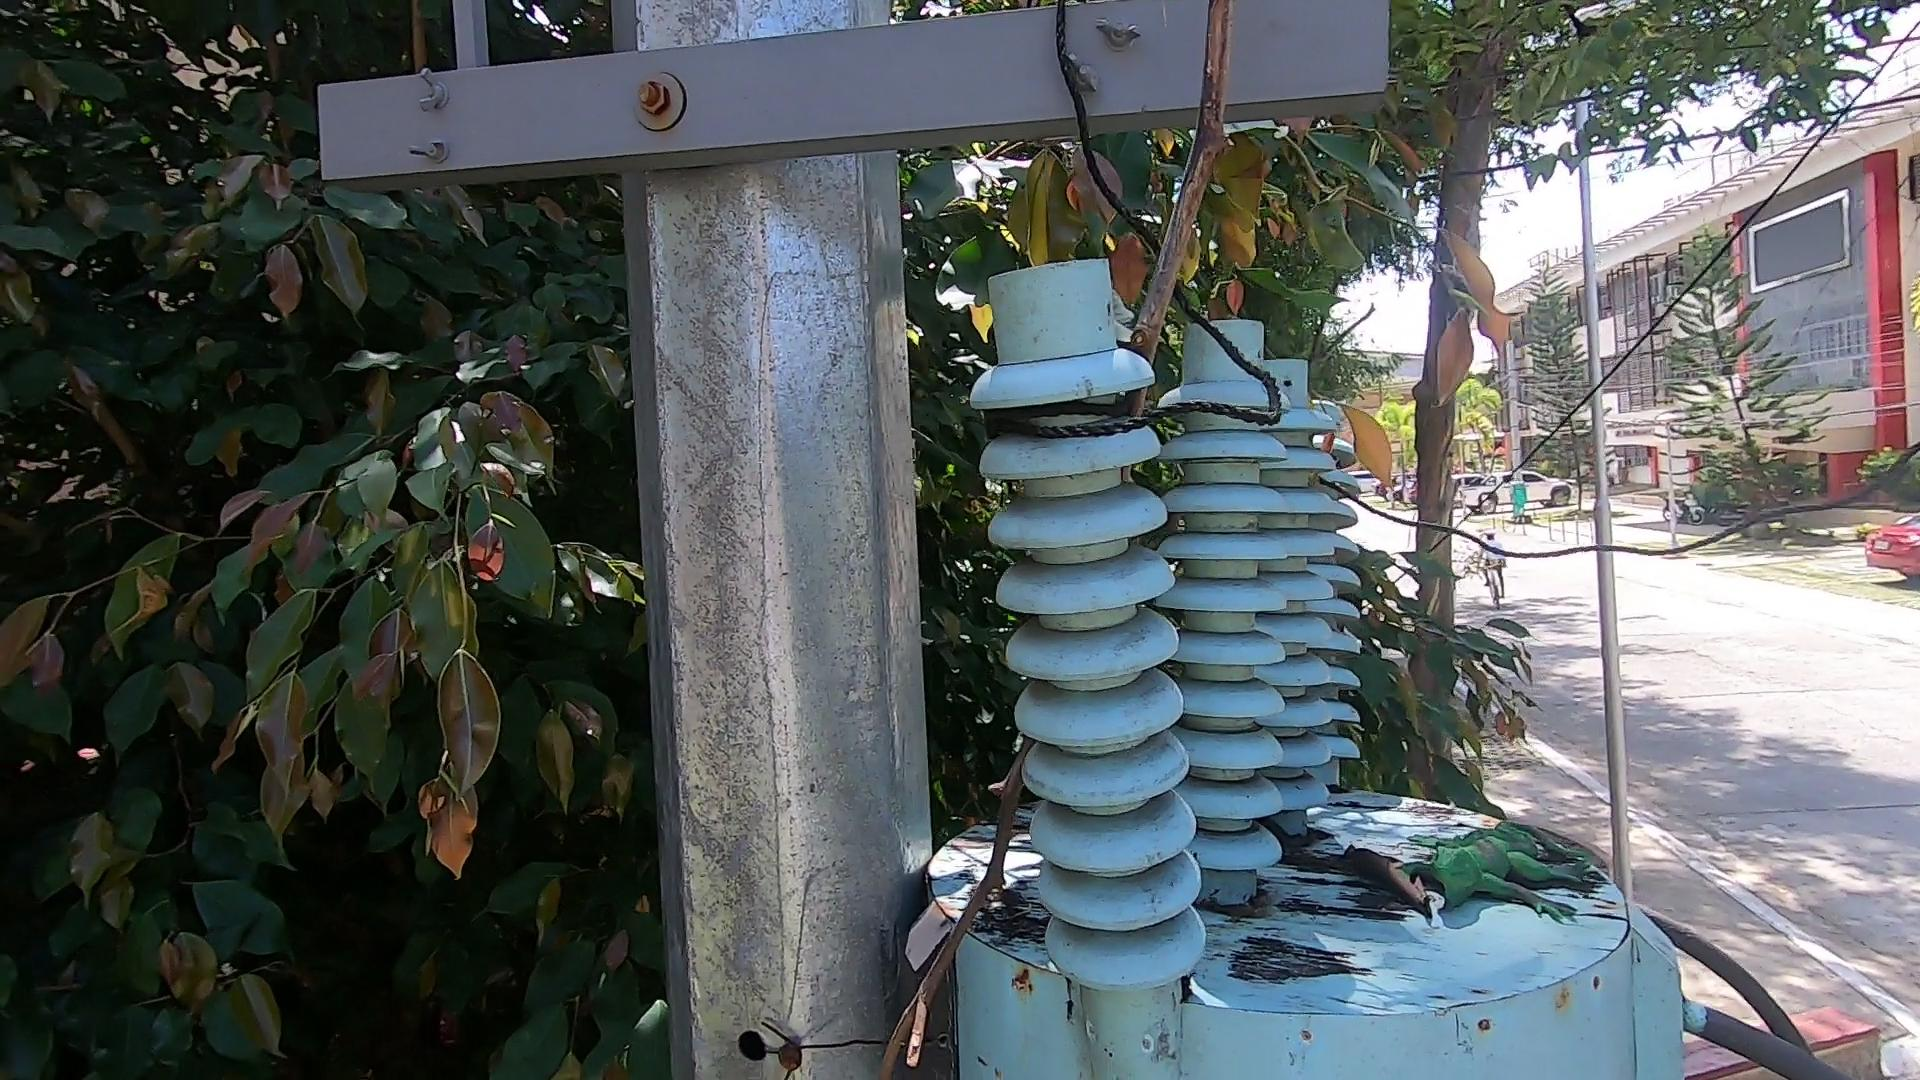leaf: (1327, 389, 1419, 484), (1342, 828, 1427, 928), (990, 880, 1040, 945)
tree branch: (861, 26, 1267, 1080)
